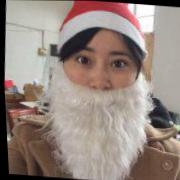WRONG: (59, 40, 143, 122)
